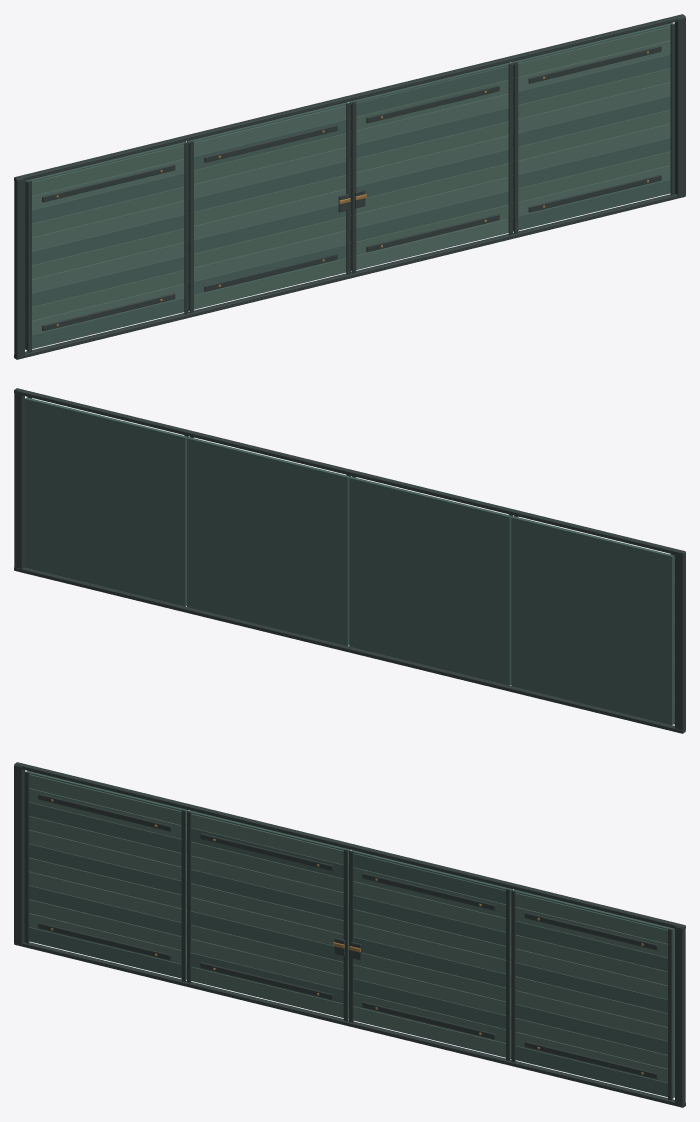
File: w0b-closed-front-14m.glb
The picture shows the model from 3 angles, top to bottom: view 1: azimuth 30°, elevation 25°; view 2: azimuth 150°, elevation 25°; view 3: azimuth 330°, elevation 25°; orthographic projection.
Visible parts, largest first — view 1: W0b | closed shutter for 14 m lot; view 2: W0b | closed shutter for 14 m lot; view 3: W0b | closed shutter for 14 m lot.
Part boxes in pixels (box(x1,y1,x2,y2)): W0b | closed shutter for 14 m lot: box(14, 14, 685, 359); W0b | closed shutter for 14 m lot: box(14, 388, 685, 733); W0b | closed shutter for 14 m lot: box(14, 762, 685, 1107).
Size of the model in its own units: 7.72 by 2 by 0.1.
